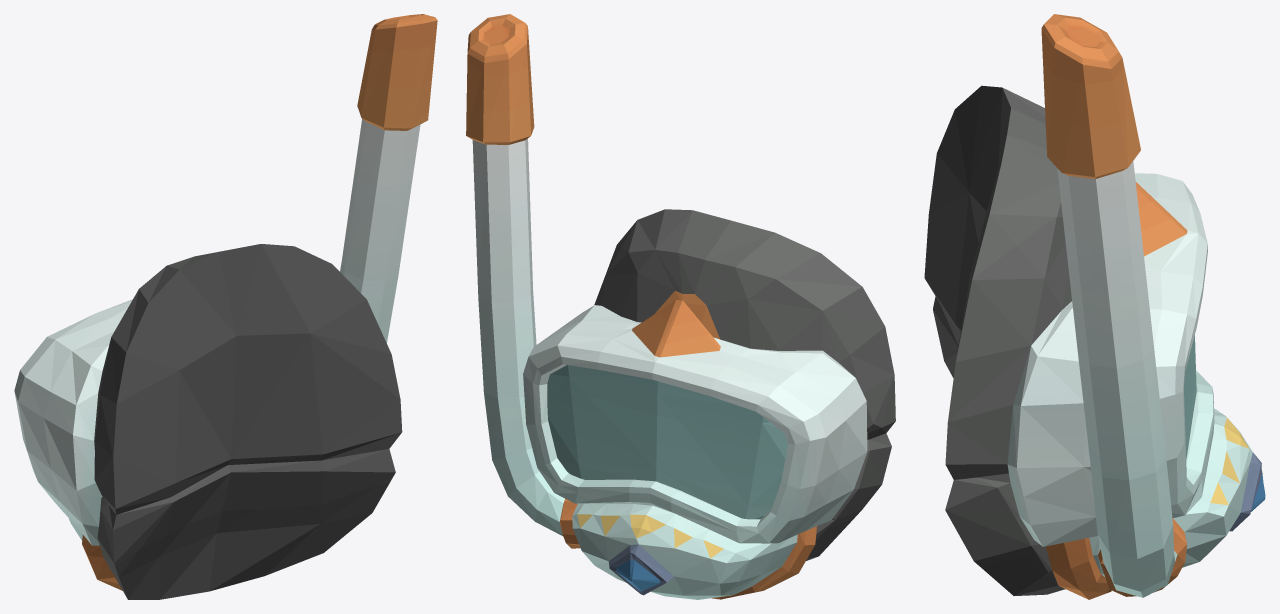
The model's file is CharSkyKid_Mask_SunlightSnorkel.glb.
3 views of the same model, side by side, from view 1: azimuth 30°, elevation 25°; view 2: azimuth 150°, elevation 25°; view 3: azimuth 270°, elevation 25° (orthographic). The views are drawn at different scales.
Parts seen in each view (by area): view 1: CharSkyKid_Mask_SunlightSnorkel; view 2: CharSkyKid_Mask_SunlightSnorkel; view 3: CharSkyKid_Mask_SunlightSnorkel.
Boxes of the visible parts, <box> form: CharSkyKid_Mask_SunlightSnorkel: <box>14,14,437,599</box>; CharSkyKid_Mask_SunlightSnorkel: <box>466,14,895,599</box>; CharSkyKid_Mask_SunlightSnorkel: <box>924,14,1265,599</box>.
Size of the model in its own units: 2.86 by 3.71 by 1.67.
Materials: 1 (1 with a texture image).
